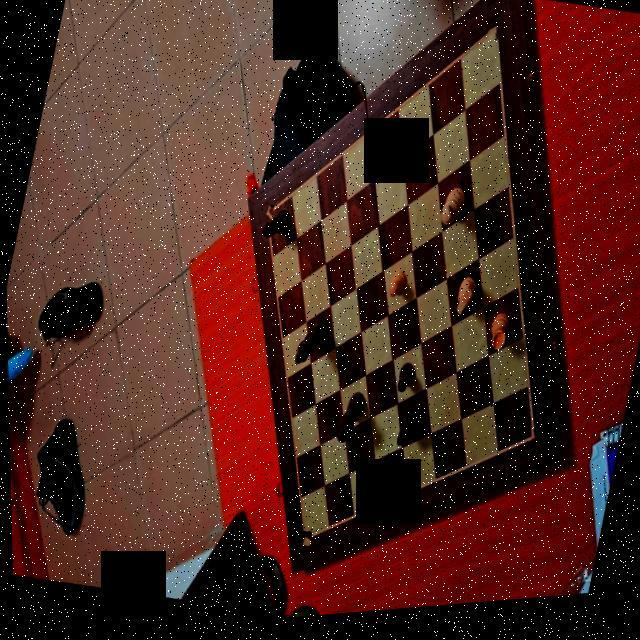chess-table-corners: (486, 23, 505, 50), (260, 207, 276, 228), (523, 436, 539, 455), (296, 534, 312, 552)
